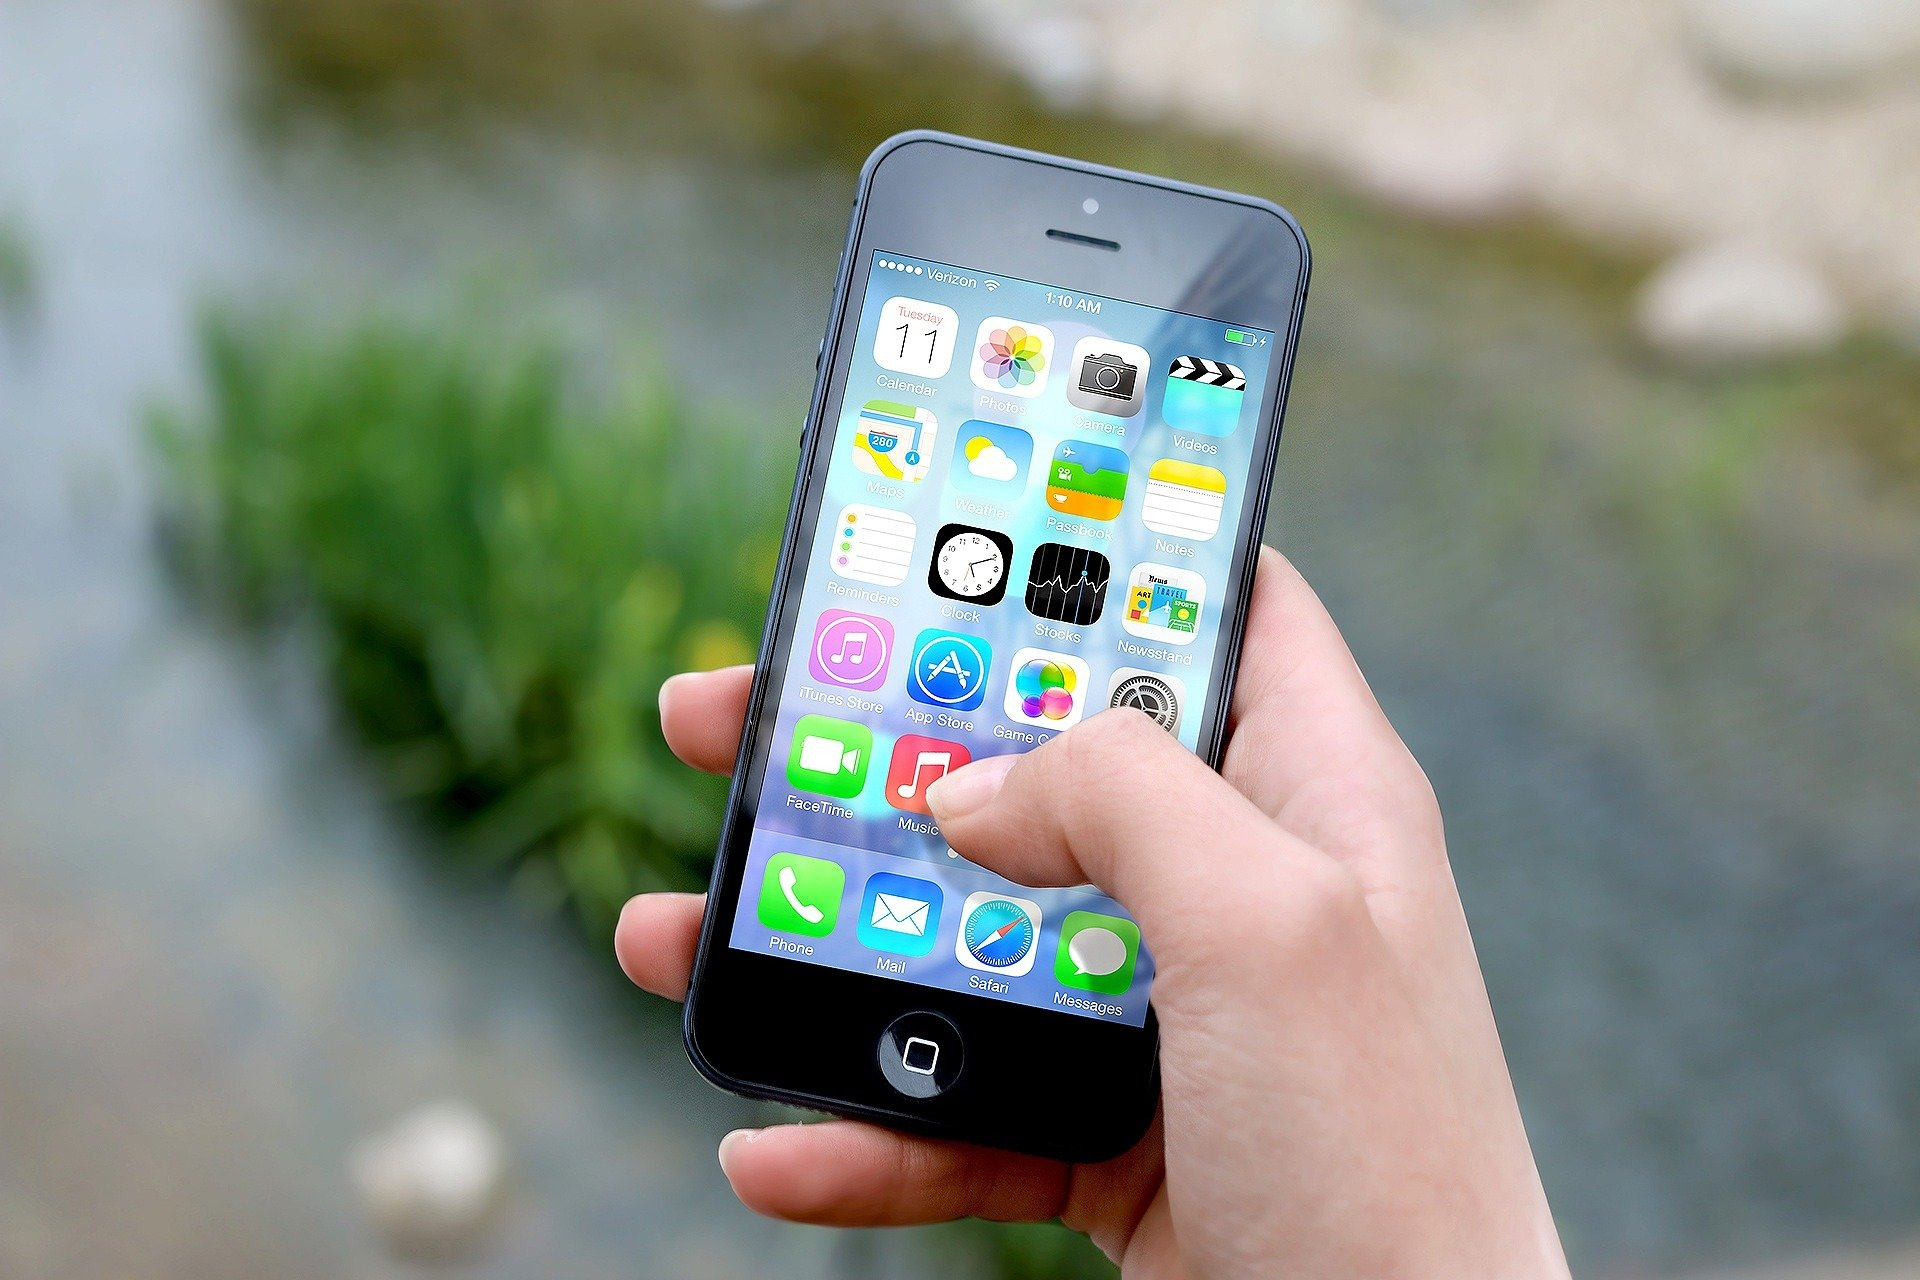phone: (669, 109, 1323, 1173)
